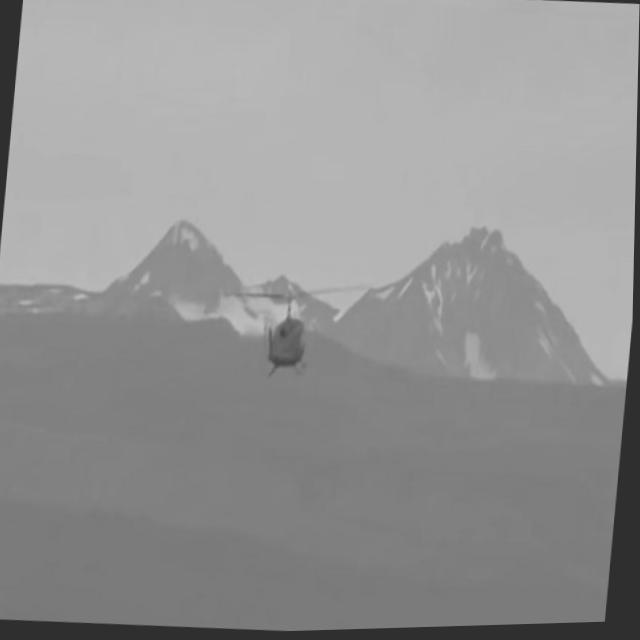helikopter: (219, 267, 361, 397)
